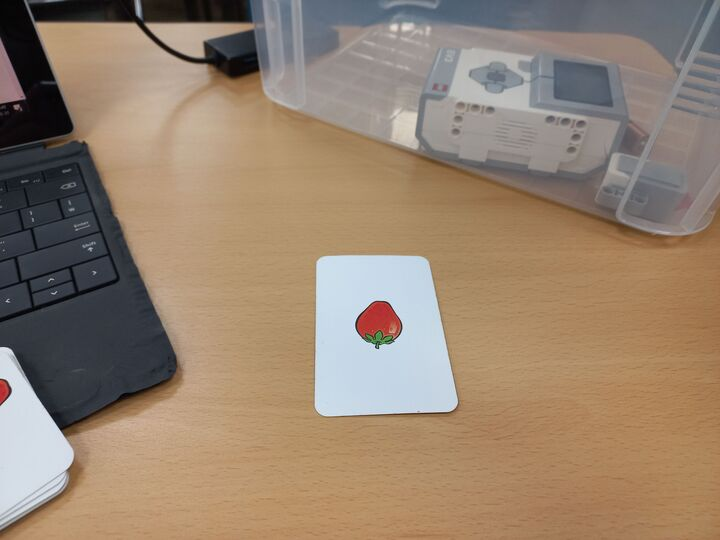strawberry1: (314, 252, 459, 418)
